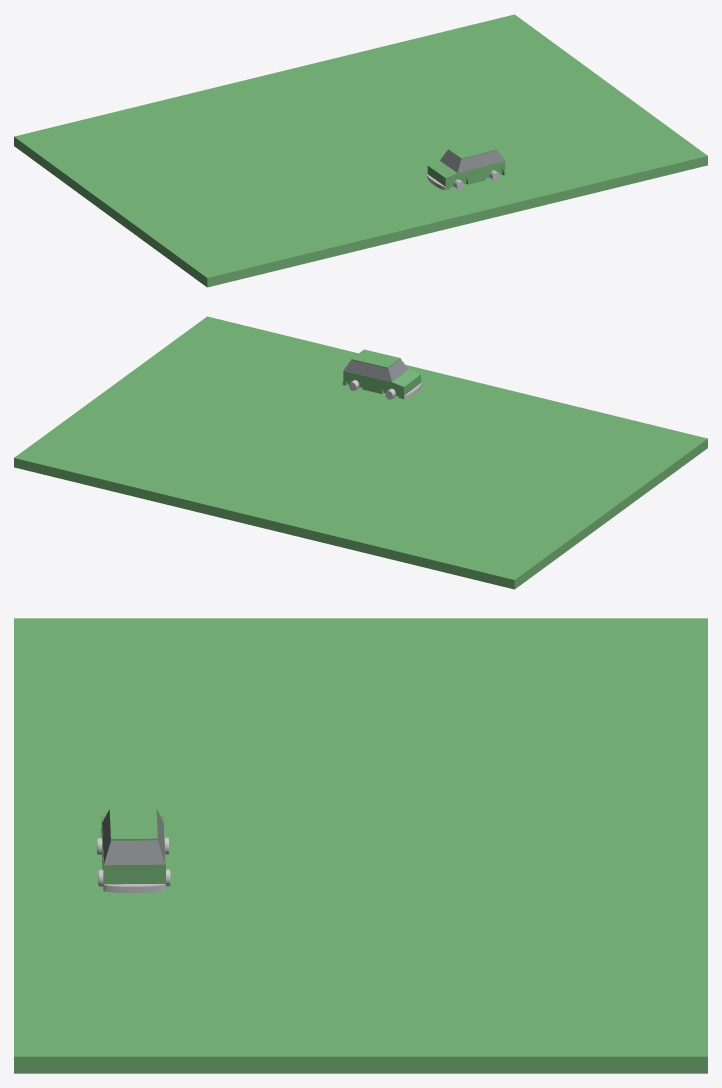
Rendered from Grupo2.glb.
3 views of the same model, one above another, from view 1: azimuth 30°, elevation 25°; view 2: azimuth 150°, elevation 25°; view 3: azimuth 270°, elevation 25° (orthographic). The views are drawn at different scales.
Parts seen in each view (by area): view 1: Mesh_Mesh_head_geo.001_lambert2SG.001; view 2: Mesh_Mesh_head_geo.001_lambert2SG.001; view 3: Mesh_Mesh_head_geo.001_lambert2SG.001.
Part boxes in pixels (bbox=[...]): Mesh_Mesh_head_geo.001_lambert2SG.001: bbox=[14, 14, 707, 287]; Mesh_Mesh_head_geo.001_lambert2SG.001: bbox=[14, 316, 707, 589]; Mesh_Mesh_head_geo.001_lambert2SG.001: bbox=[14, 618, 707, 1073].
Size of the model in its own units: 0.166 by 0.013 by 0.111.
